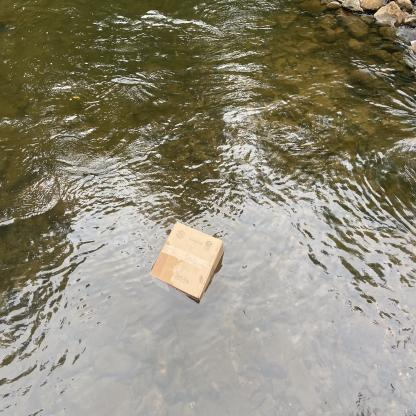trash: (146, 218, 227, 309)
